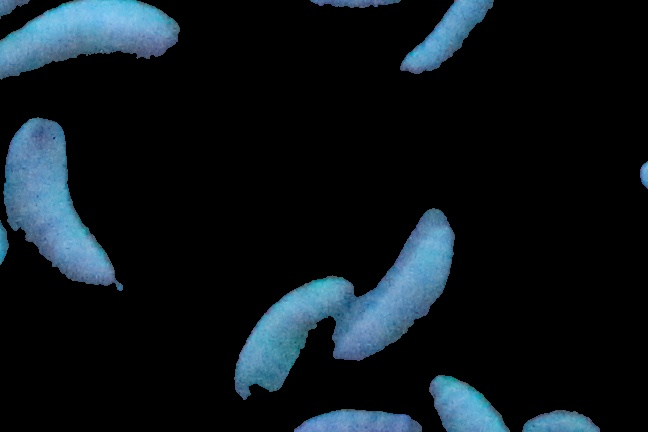larvae: (1, 116, 116, 291), (340, 204, 456, 364), (237, 275, 351, 404), (1, 1, 179, 71), (400, 1, 511, 80), (428, 376, 504, 432)
